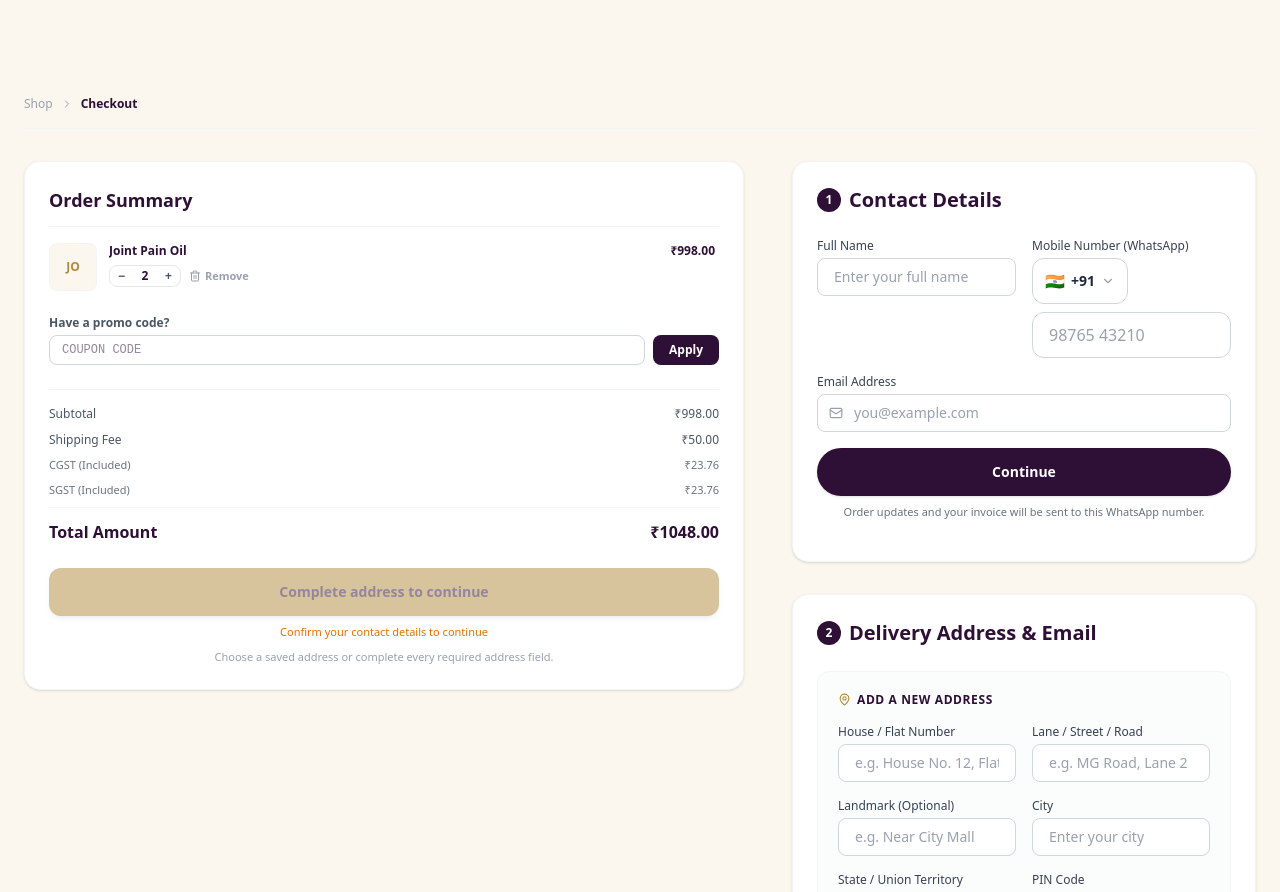
Test: checkout — contact step verifies the number with a WhatsApp OTP › Continue sends the OTP and reveals the OTP input
expect the button "Continue" is shown: met, box [817, 448, 1231, 496]
Type "Atharva Bhargava" into the field with placeholder "Enter your full name" at (916,277), box [817, 258, 1016, 296]
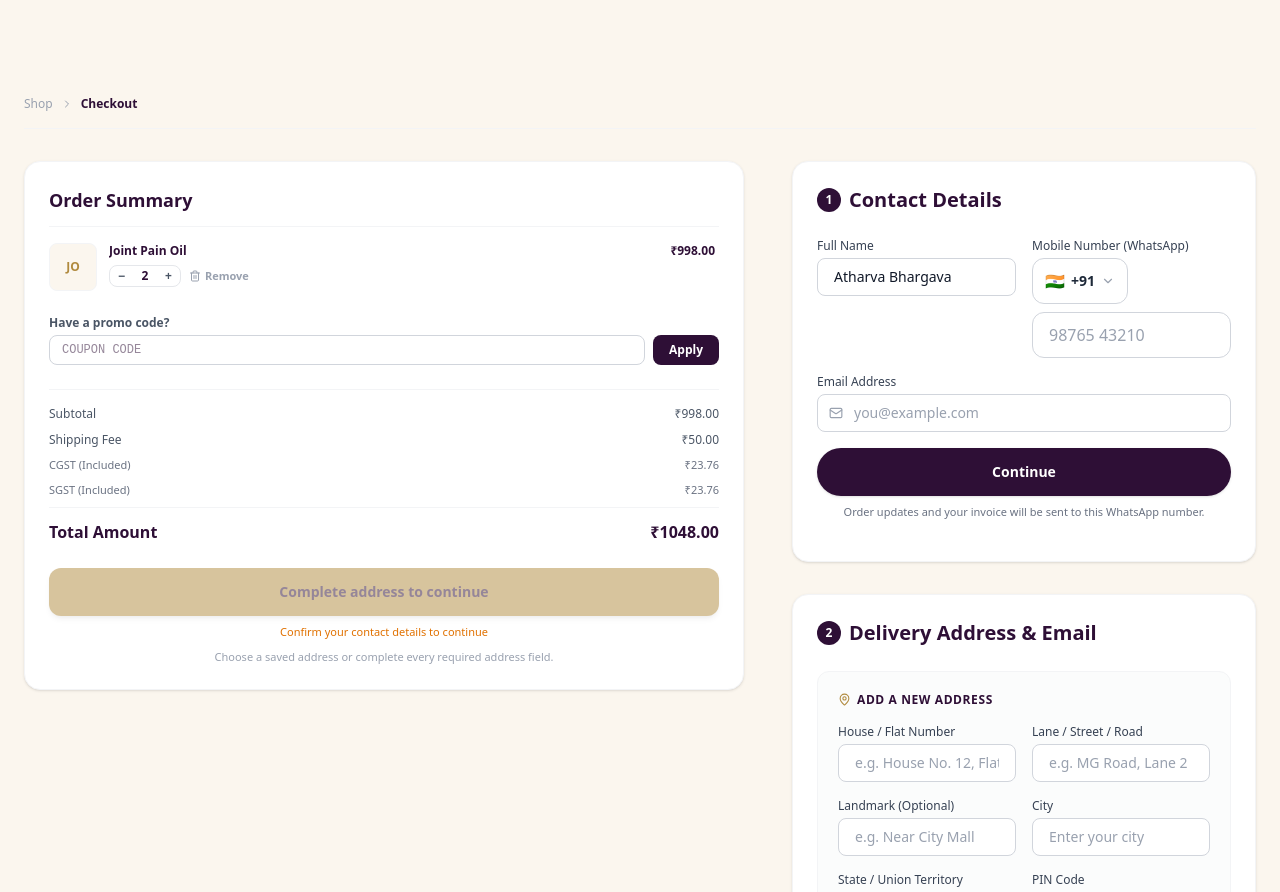
Type "9876543210" into the field with placeholder "98765 43210" at (1132,335), box [1032, 312, 1231, 358]
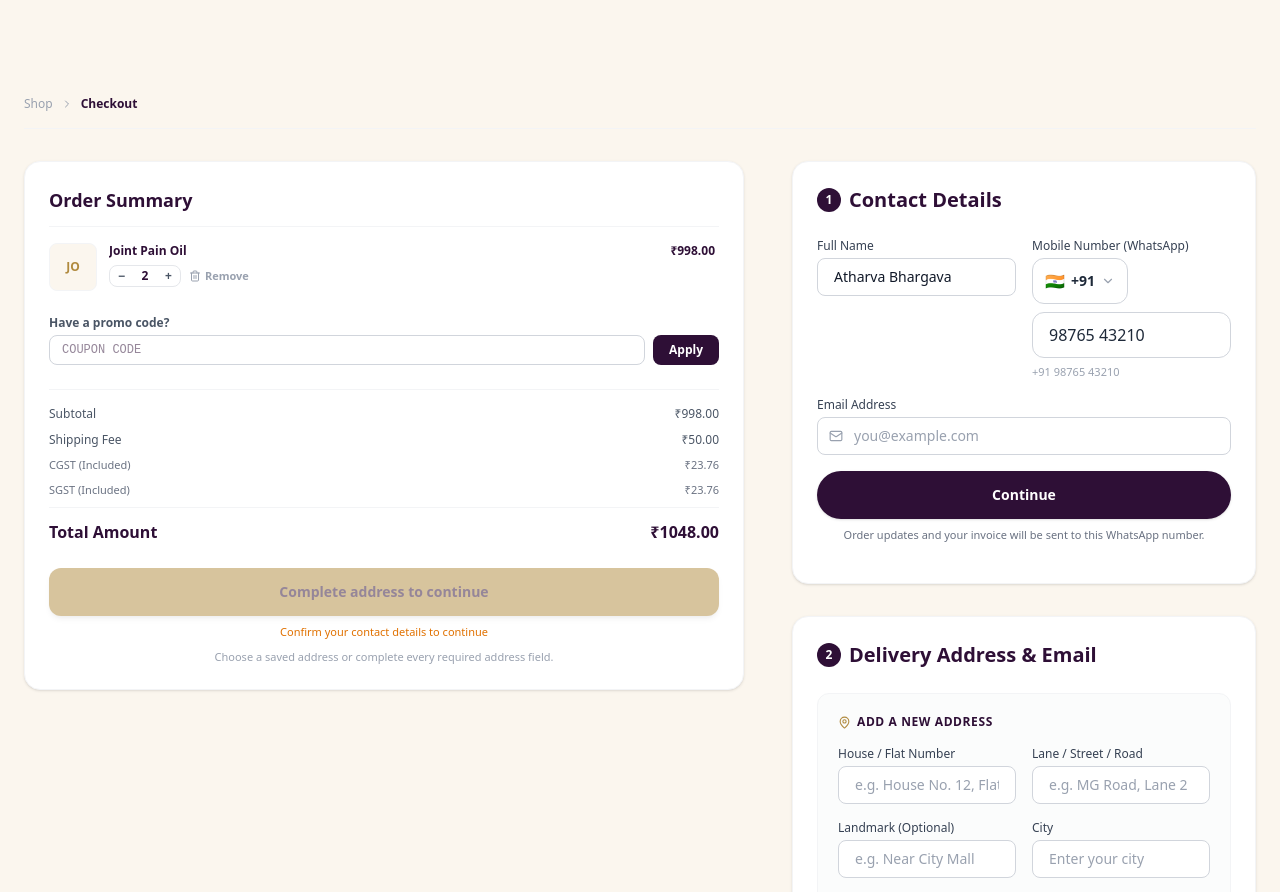
Type "atharva@example.com" into the field with id "checkout-contact-email" at (1024,436), box [817, 416, 1231, 454]
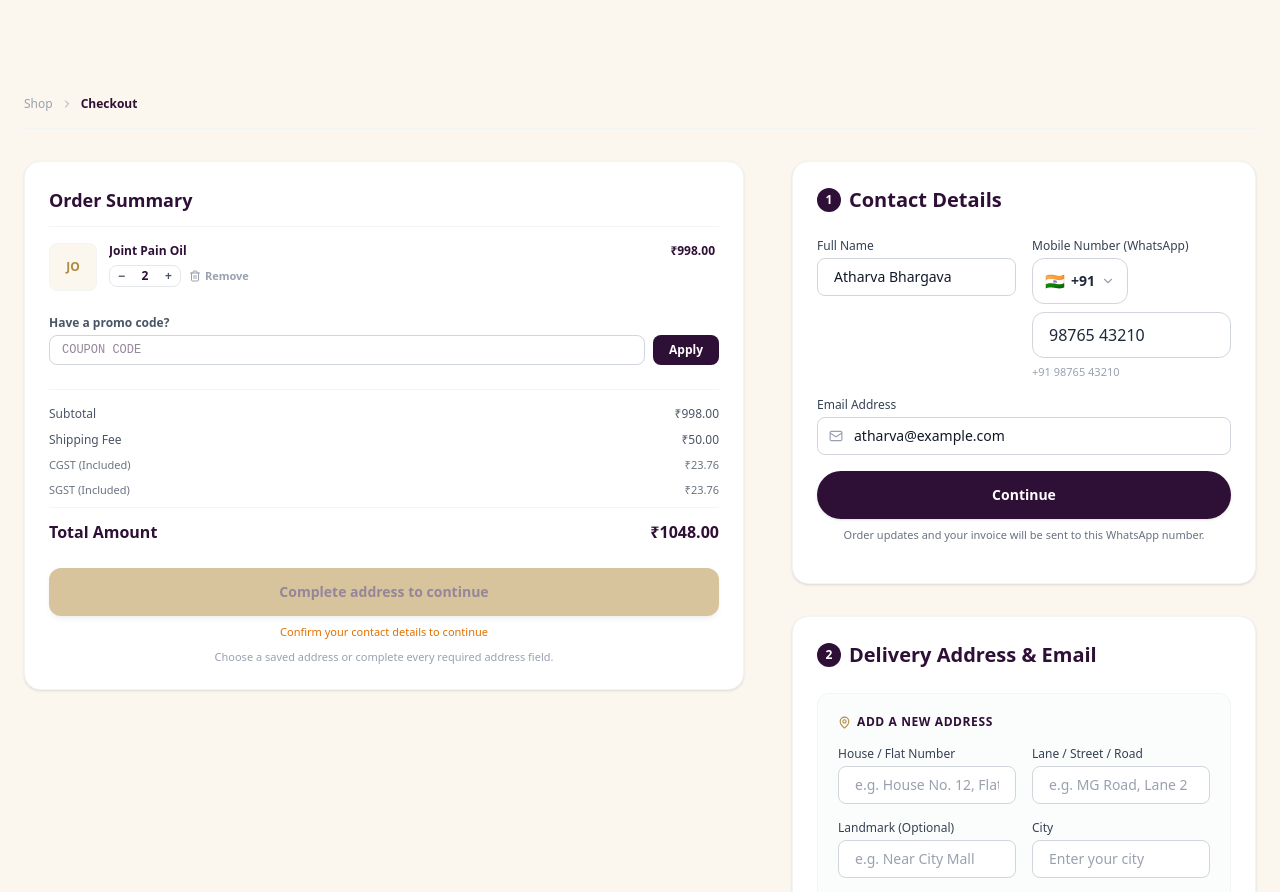
Click the button "Continue" at (1024,494), box [817, 470, 1231, 518]
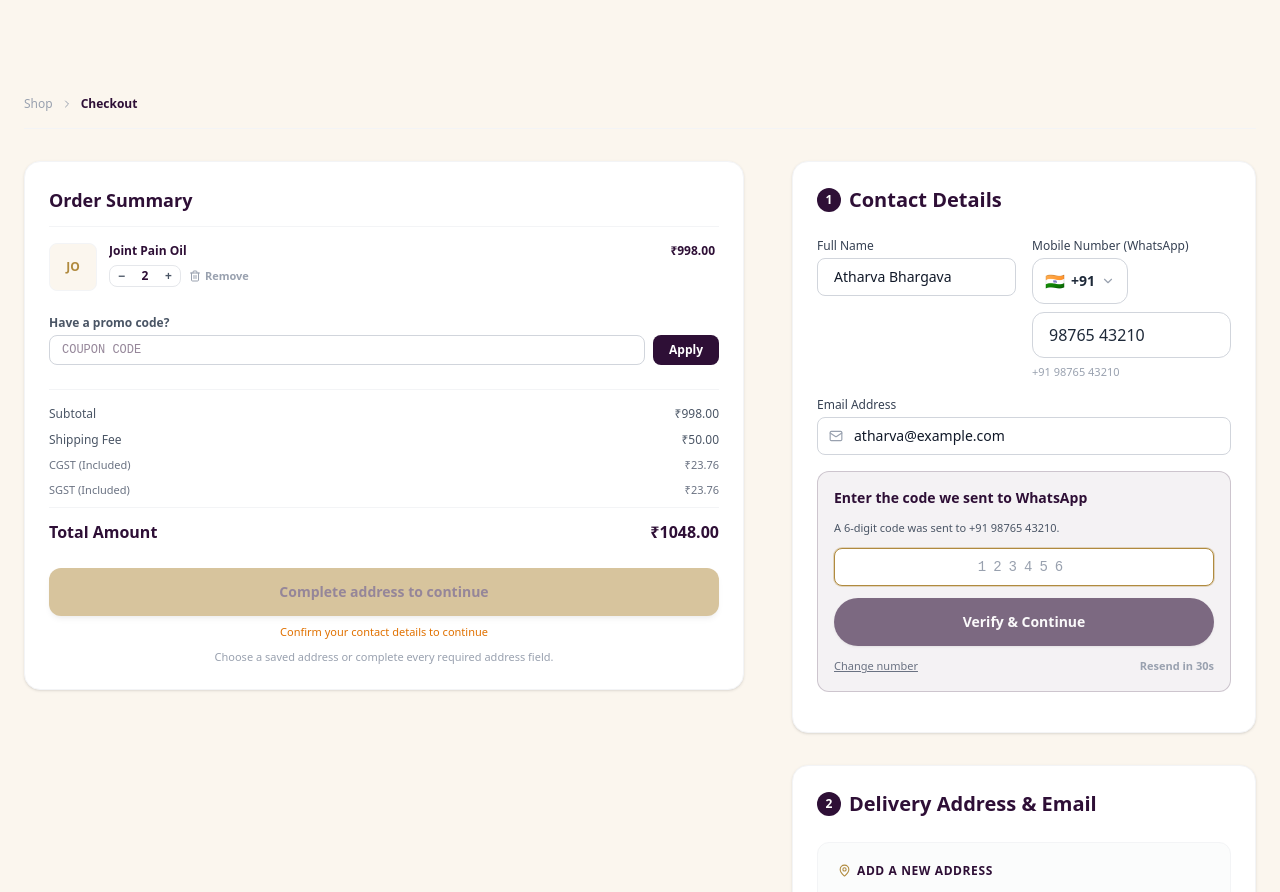
expect the field with id "checkout-otp" is shown: met, box [834, 548, 1214, 586]
expect the button "Verify & Continue" is shown: met, box [834, 598, 1214, 646]
expect the button "Change number" is shown: met, box [834, 658, 918, 674]
